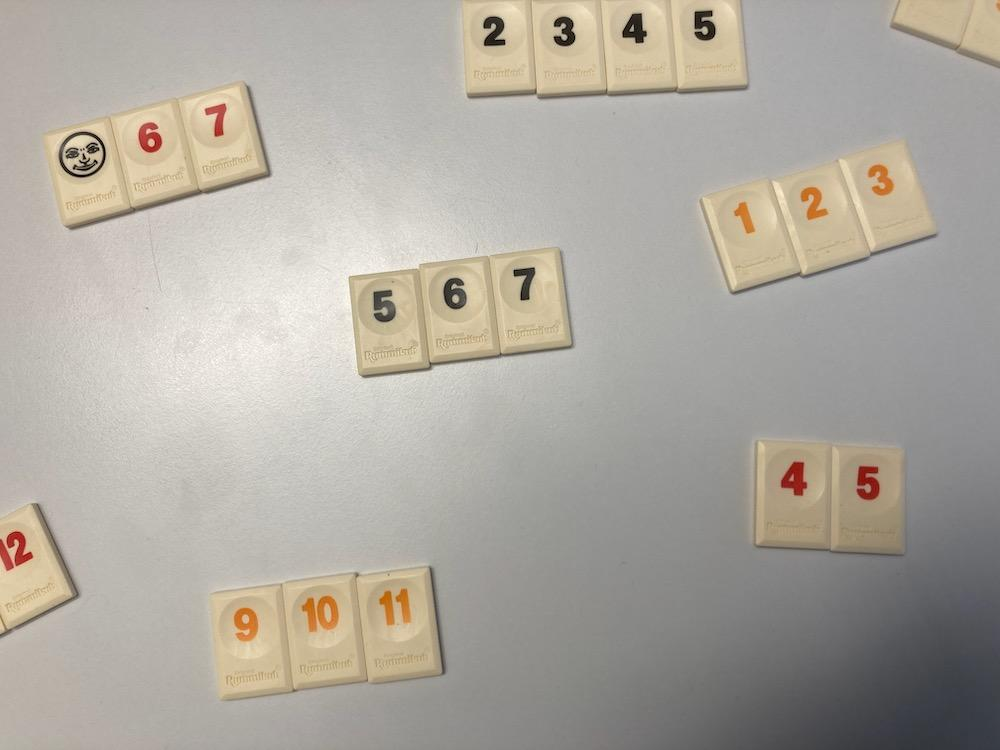black_2: (464, 0, 534, 95)
black_3: (533, 1, 605, 95)
black_4: (603, 0, 676, 93)
black_5: (350, 271, 429, 377), (670, 0, 748, 91)
black_6: (420, 259, 500, 363)
black_7: (491, 249, 572, 354)
joker: (43, 117, 131, 227)
orange_1: (702, 180, 799, 291)
orange_10: (283, 572, 366, 689)
orange_11: (358, 566, 443, 684)
orange_2: (771, 162, 869, 275)
orange_3: (840, 141, 938, 252)
orange_9: (212, 587, 293, 698)
red_4: (754, 441, 830, 549)
red_5: (830, 447, 904, 555)
red_6: (111, 100, 197, 207)
red_7: (180, 82, 268, 191)
